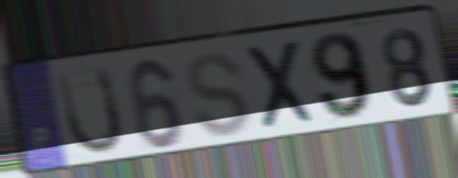6: (126, 54, 184, 153)
8: (381, 26, 435, 112)
9: (311, 30, 378, 125)
S: (184, 50, 253, 140)
U: (55, 63, 127, 158)
X: (241, 37, 323, 135)
